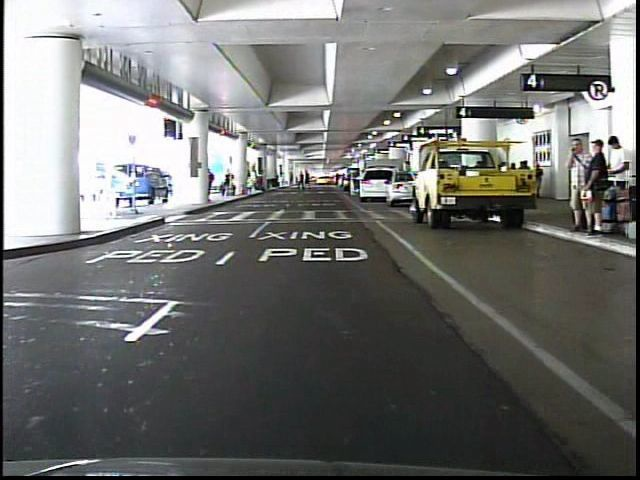person: (560, 136, 588, 233)
